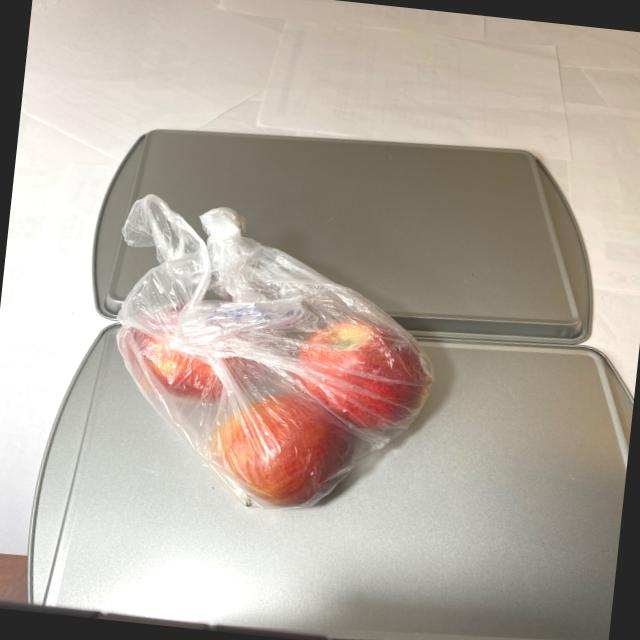apple: (99, 292, 448, 529)
